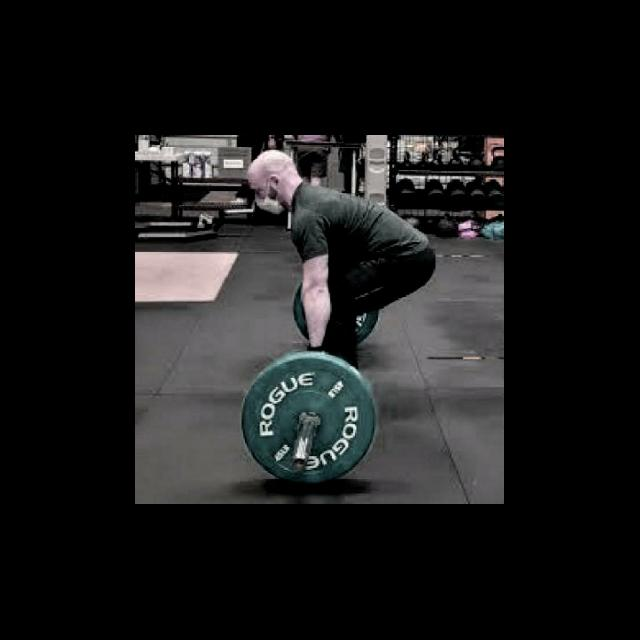barbell: (238, 348, 382, 497)
